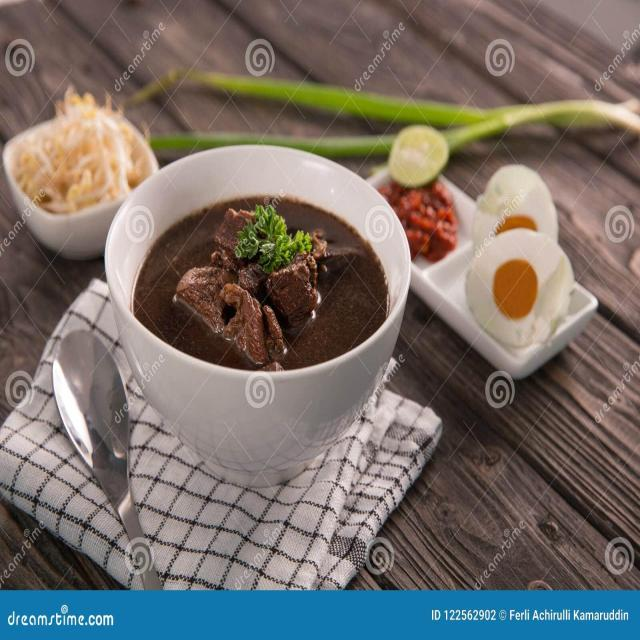Rawon: (123, 171, 384, 370)
